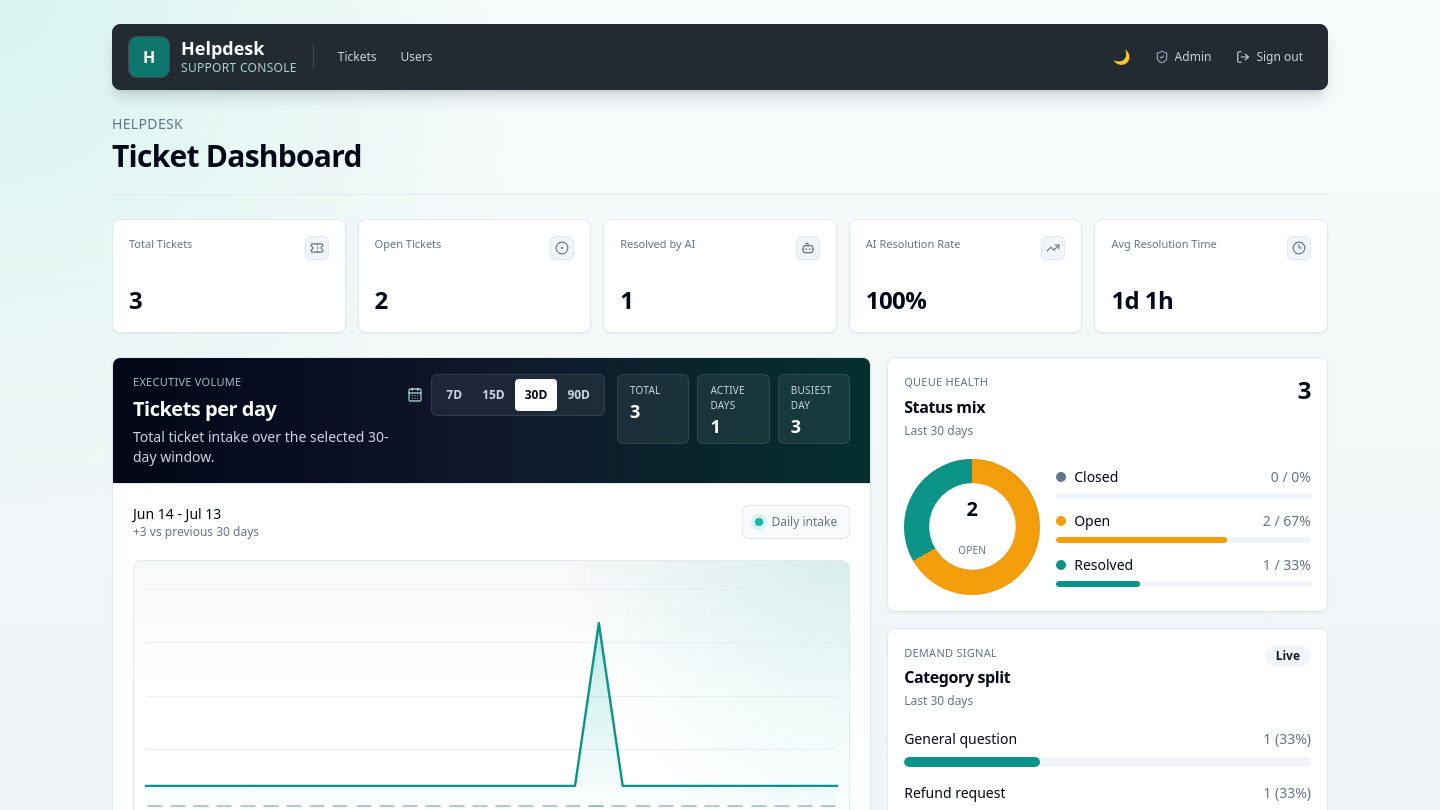
Test: Tickets UI › dashboard has navbar access and clickable filtered scorecards
Expected: the heading "Ticket Dashboard" is shown, top-left (112, 138), bottom-right (362, 174)
Expected: the link "Resolved by AI 1" is shown, top-left (603, 219), bottom-right (837, 333)
Click the button "15D" at (493, 395), box top-left (472, 379), bottom-right (515, 411)
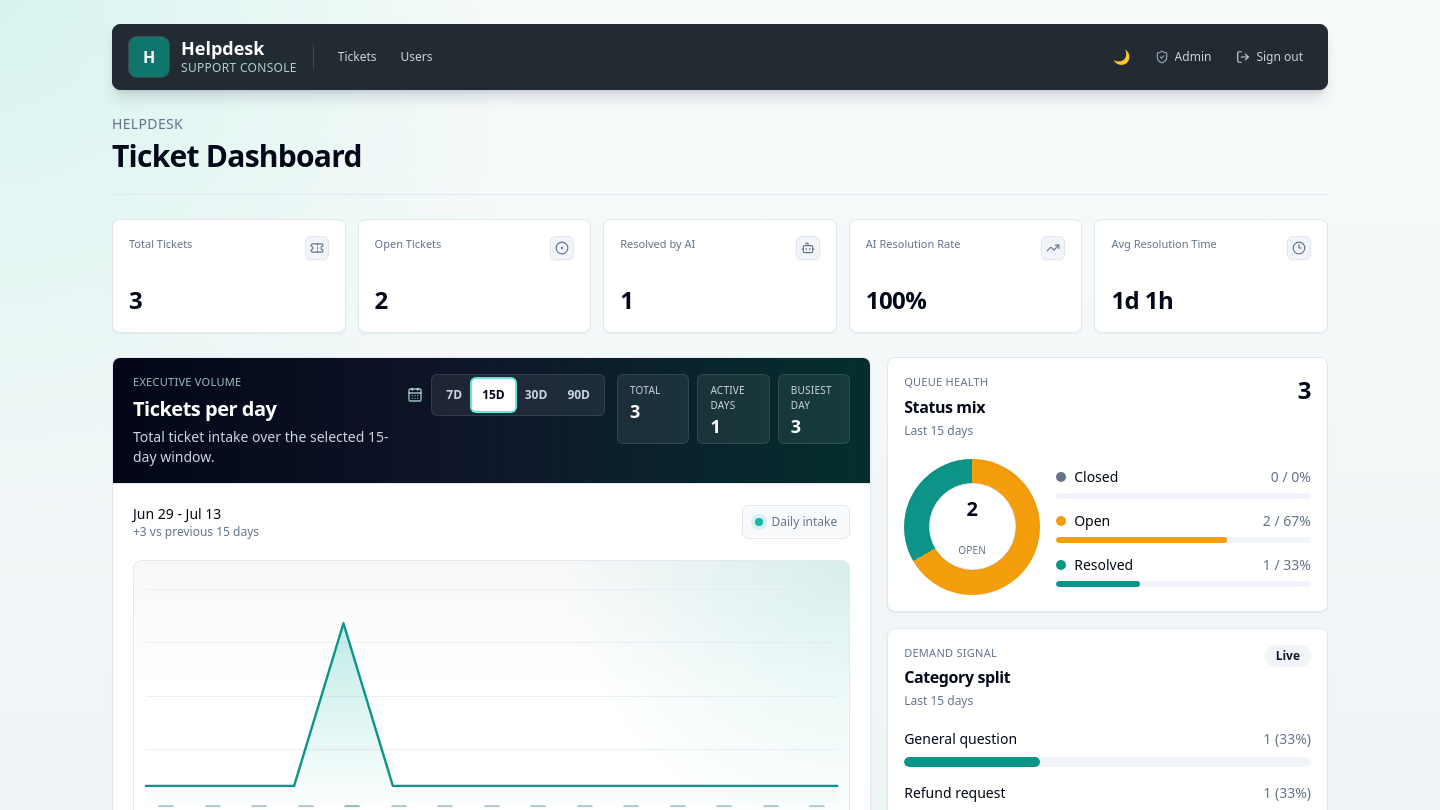
Expected: the text "Total ticket intake over the selected 15-day window." is shown, top-left (133, 426), bottom-right (391, 466)
Click the button named "Switch to dark view" at (1122, 57), box top-left (1106, 41), bottom-right (1138, 73)
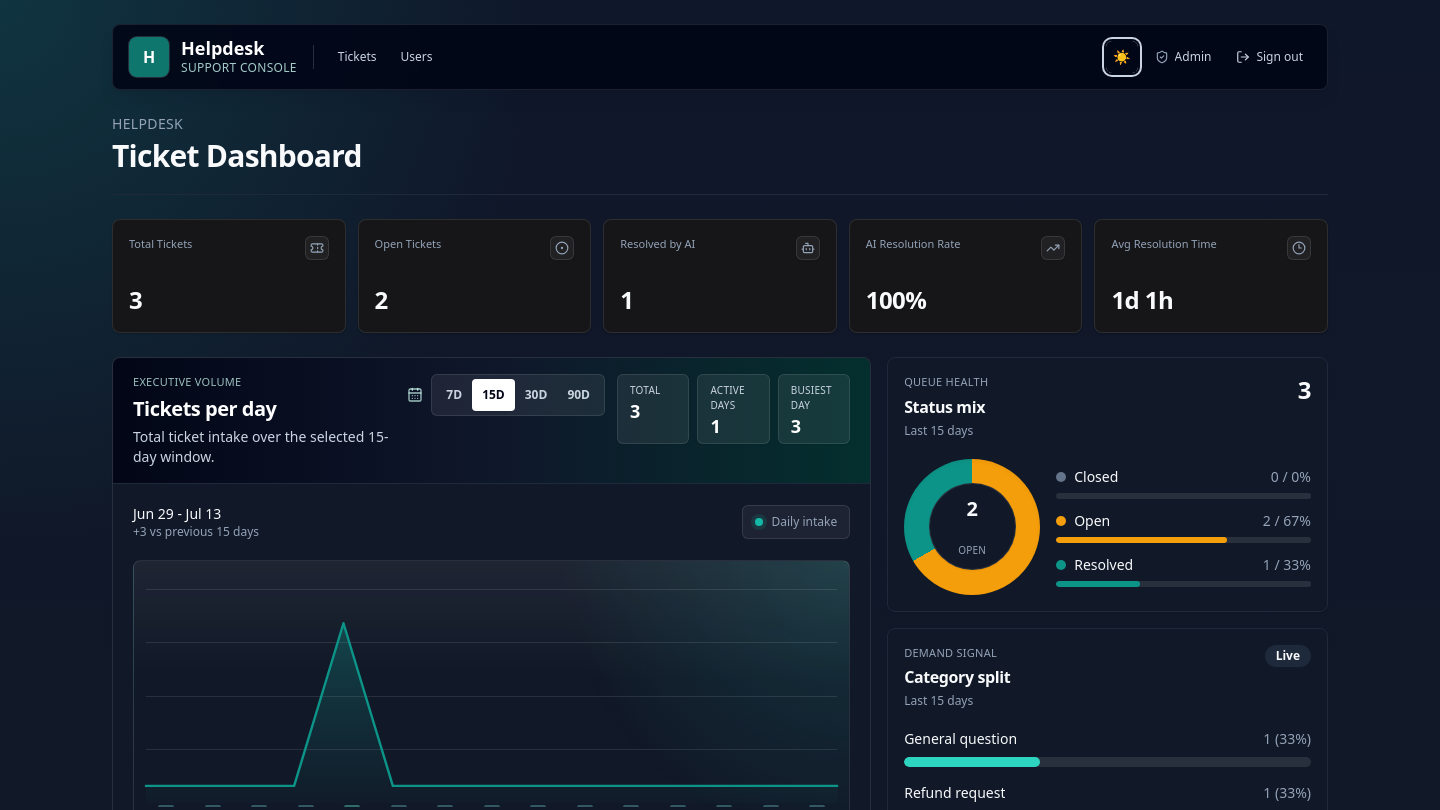
Expected: the button named "Switch to light view" is shown, top-left (1106, 41), bottom-right (1138, 73)
